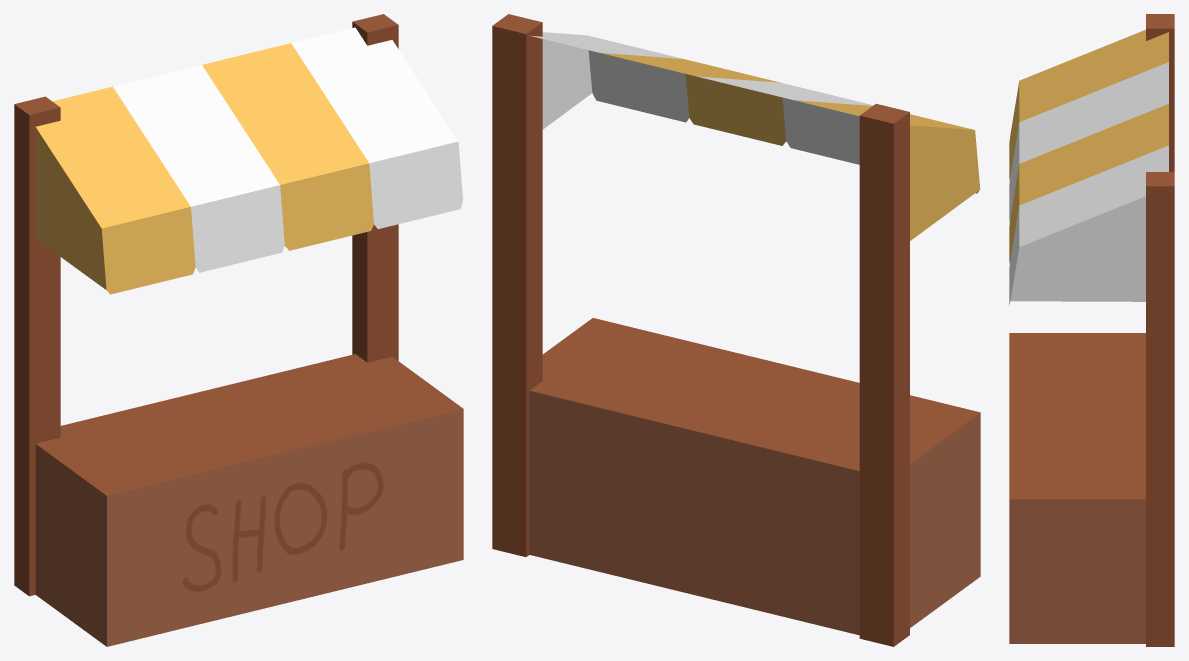
The model's file is SHOP.fbx.
3 views of the same model, side by side, from view 1: azimuth 30°, elevation 25°; view 2: azimuth 150°, elevation 25°; view 3: azimuth 270°, elevation 25° (orthographic). The views are drawn at different scales.
Parts seen in each view (by area): view 1: Cube; view 2: Cube; view 3: Cube.
Boxes of the visible parts, x1,y1,x2,y2 form: Cube: [14, 14, 463, 646]; Cube: [492, 14, 980, 646]; Cube: [1009, 14, 1174, 646].
Bounding box in the file's own units: 258 × 321 × 104.
